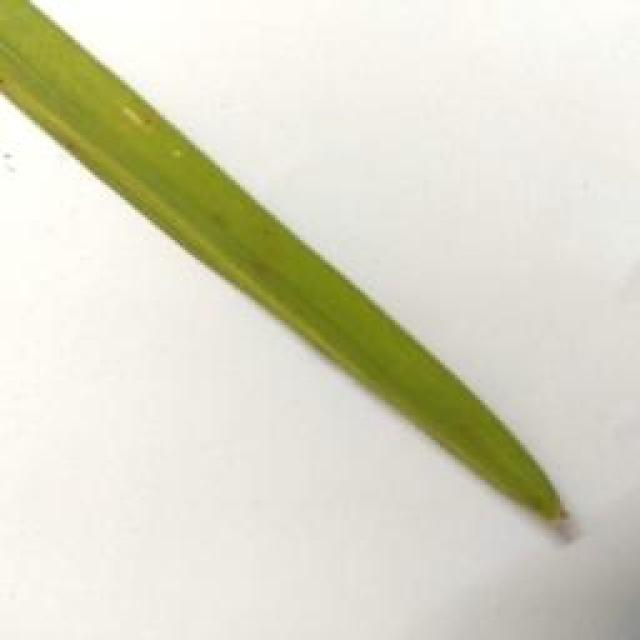Bacterial_Blight: (110, 98, 164, 138)
